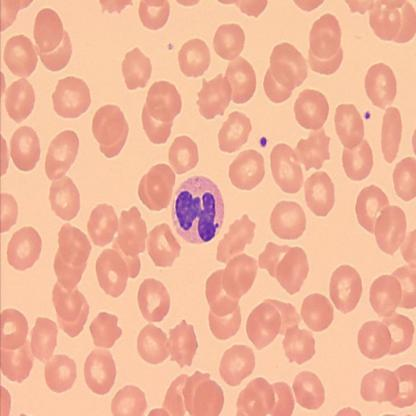Segmented neutrophil: (170, 173, 226, 247)
